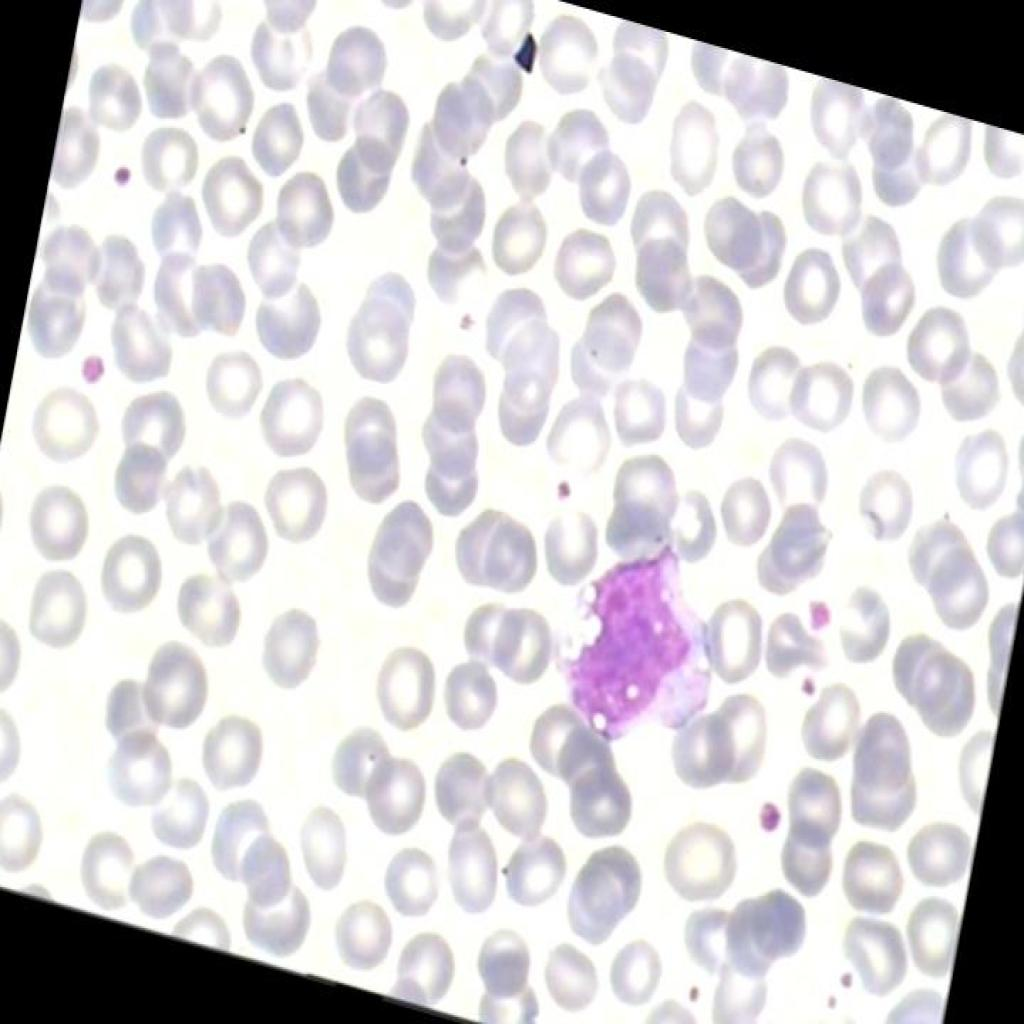Monosit: (536, 517, 734, 777)
Platelet: (540, 466, 599, 532), (748, 784, 797, 852), (102, 146, 152, 202), (796, 582, 840, 644), (68, 339, 112, 393), (672, 963, 712, 1017), (782, 661, 821, 711), (451, 283, 486, 334), (808, 980, 845, 1022), (446, 137, 476, 176), (828, 956, 859, 986)
